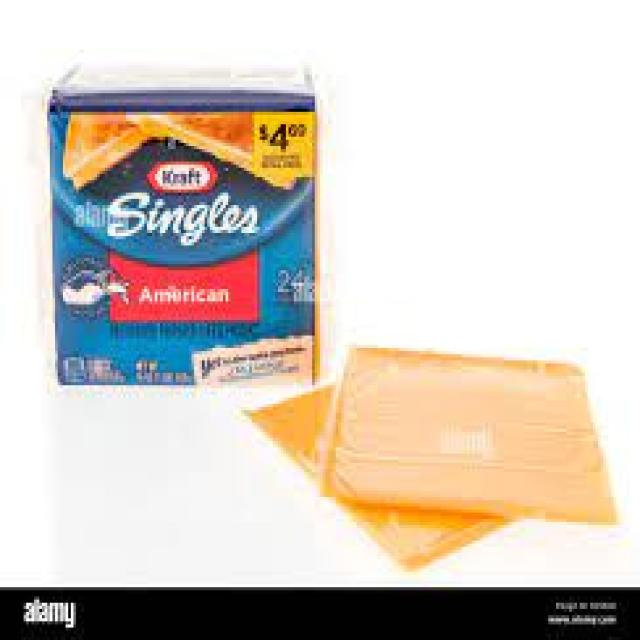slicecheese: (320, 345, 618, 525)
